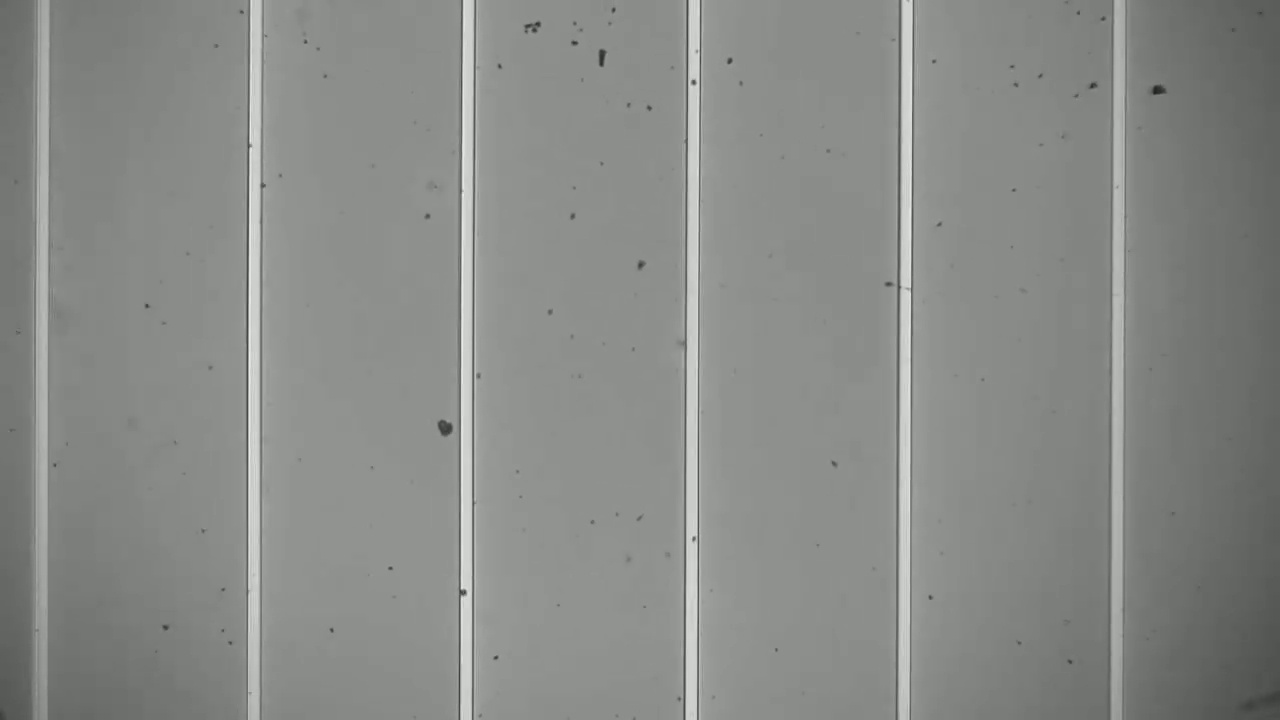stains_enbedded: (453, 584, 475, 603)
